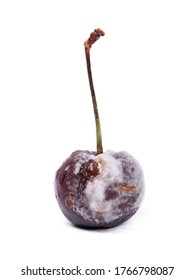cherry: (54, 150, 146, 231)
rotten: (66, 151, 146, 225)
